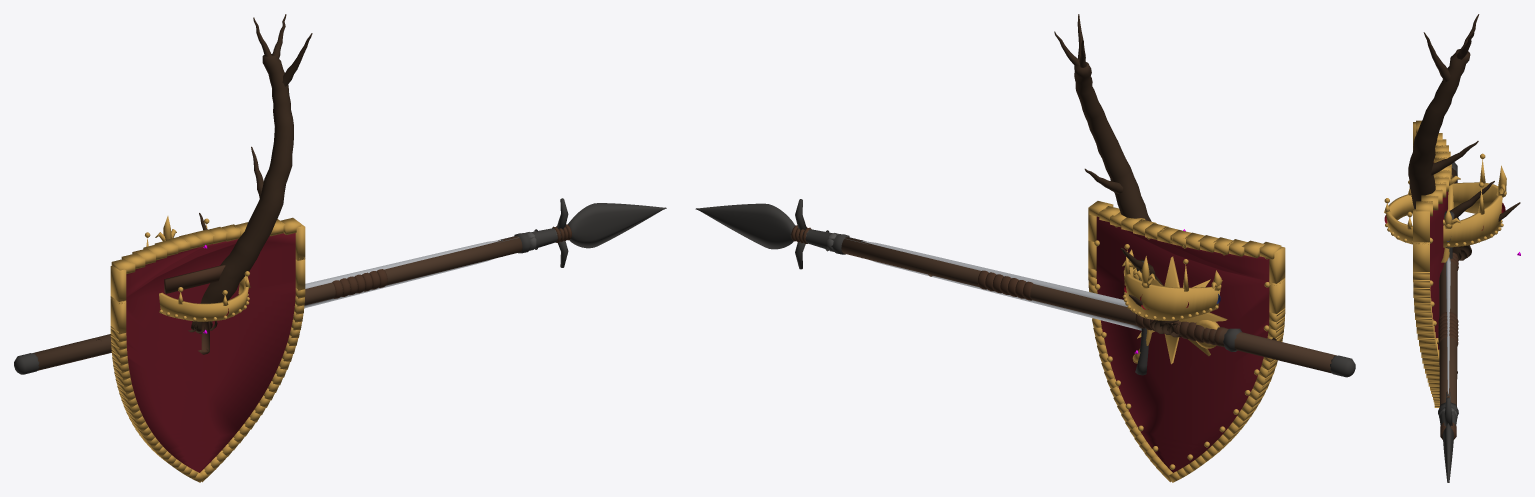
Rendered from arms.glb.
3 views of the same model, side by side, from view 1: azimuth 30°, elevation 25°; view 2: azimuth 150°, elevation 25°; view 3: azimuth 270°, elevation 25° (orthographic).
Visible parts, largest first — view 1: Shield_Face, Shield_Rim, Antler_Right, BoarSpear_Shaft, BoarSpear_Head, Crown_Band, KnightSword_Blade, Shield_Back, BoarSpear_Socket, BoarSpear_Wrap; view 2: Shield_Face, Shield_Rim, BoarSpear_Shaft, Antler_Right, Crown_Band, BoarSpear_Head, KnightSword_Blade, BoarSpear_Wrap, Shield_Star, BoarSpear_Socket; view 3: Antler_Right, Shield_Rim, Crown_Band, BoarSpear_Shaft, Shield_Face, BoarSpear_Wrap, KnightSword_Blade, BoarSpear_Head, BoarSpear_Socket, Shield_Star.
Boxes of the visible parts, x1,y1,x2,y2 form: Shield_Face: (126,233,295,472); Shield_Rim: (110,217,305,482); Antler_Right: (188,14,312,333); BoarSpear_Shaft: (32,236,522,370); BoarSpear_Head: (567,203,666,248); Crown_Band: (145,216,250,321); KnightSword_Blade: (304,240,500,308); Shield_Back: (164,264,225,354); BoarSpear_Socket: (514,198,572,267); BoarSpear_Wrap: (332,269,387,298); Shield_Face: (1096,216,1269,472); Shield_Rim: (1088,201,1285,482); BoarSpear_Shaft: (841,237,1336,373); Antler_Right: (1054,14,1182,337); Crown_Band: (1122,244,1222,320); BoarSpear_Head: (695,203,795,249); KnightSword_Blade: (863,241,1141,330); BoarSpear_Wrap: (977,270,1203,342); Shield_Star: (1137,256,1227,364); BoarSpear_Socket: (790,199,849,269); Antler_Right: (1408,14,1520,260); Shield_Rim: (1413,120,1451,407); Crown_Band: (1384,153,1506,247); BoarSpear_Shaft: (1439,168,1457,406); Shield_Face: (1430,162,1448,349); BoarSpear_Wrap: (1438,252,1458,346); KnightSword_Blade: (1446,257,1450,393); BoarSpear_Head: (1443,423,1453,482); BoarSpear_Socket: (1438,397,1458,435); Shield_Star: (1441,185,1453,262).
Size of the model in its own units: 8 by 5.06 by 1.46.
